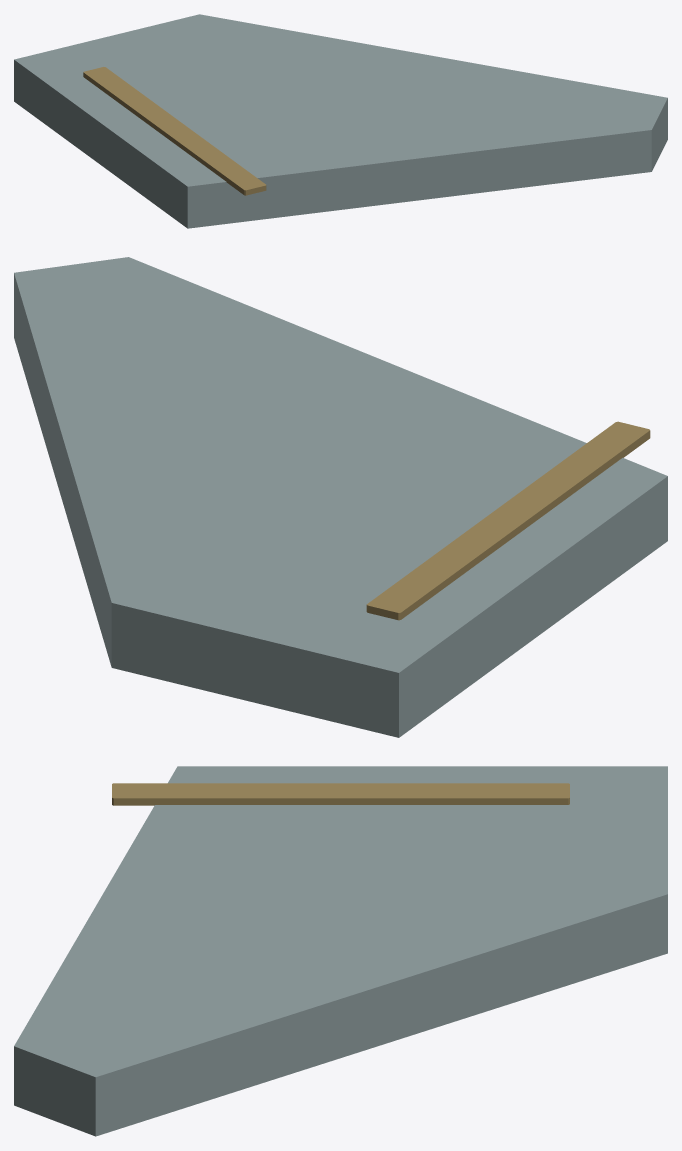
The model's file is wreck_wing.glb.
3 renders of one model, top to bottom at view 1: azimuth 30°, elevation 25°; view 2: azimuth 150°, elevation 25°; view 3: azimuth 270°, elevation 25°, orthographic. The views are drawn at different scales.
Parts seen in each view (by area): view 1: wreck_wing; view 2: wreck_wing; view 3: wreck_wing.
Part boxes in pixels (x1,y1,x2,y2): wreck_wing: (14, 14, 667, 228); wreck_wing: (14, 257, 667, 737); wreck_wing: (14, 766, 667, 1136).
Size of the model in its own units: 4.5 by 0.445 by 4.
